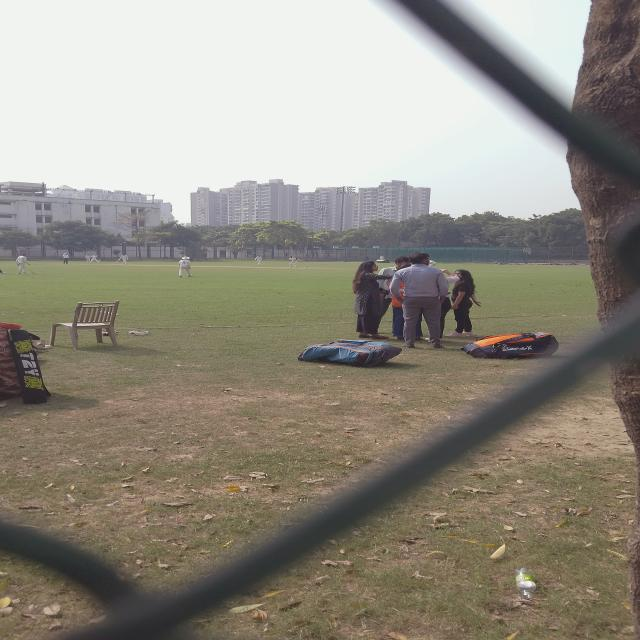unsafe: (398, 253, 449, 348), (352, 260, 384, 340), (447, 265, 479, 340), (13, 252, 32, 276), (177, 256, 193, 277), (284, 255, 299, 268), (252, 254, 266, 266), (118, 252, 129, 266), (90, 253, 100, 265), (61, 252, 70, 265)
